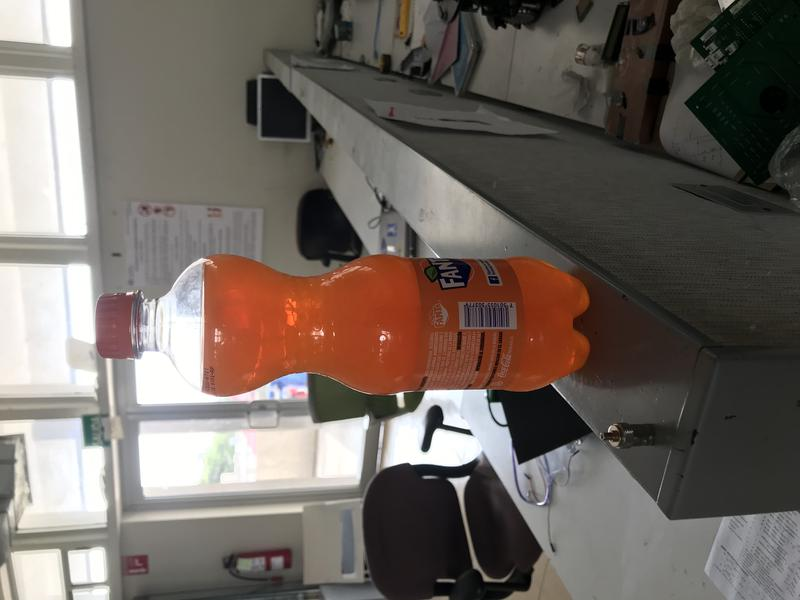fanta: (94, 254, 591, 397)
